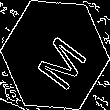M_NW: (24, 21, 86, 89)
